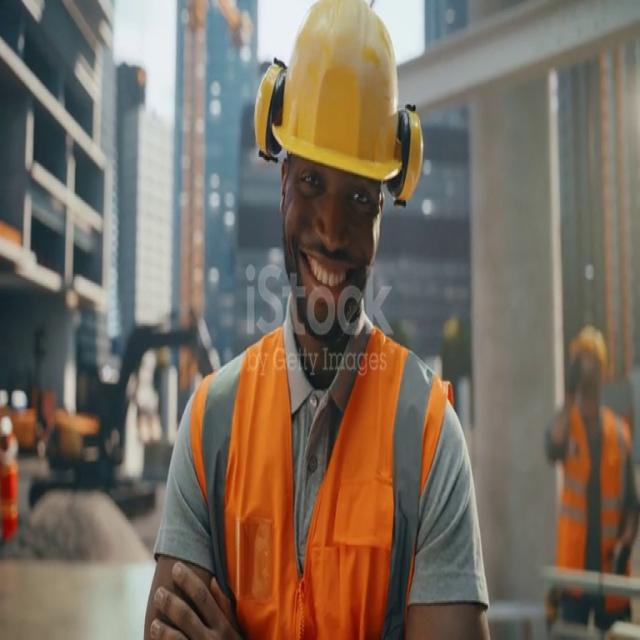capacete: (246, 0, 430, 221)
